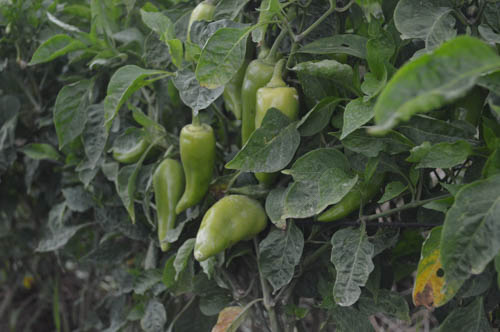ChiliPepper: (189, 196, 268, 263), (316, 173, 384, 229), (176, 126, 214, 217), (252, 85, 298, 160), (149, 159, 183, 256), (242, 61, 274, 151), (220, 47, 242, 115), (186, 3, 216, 37)
